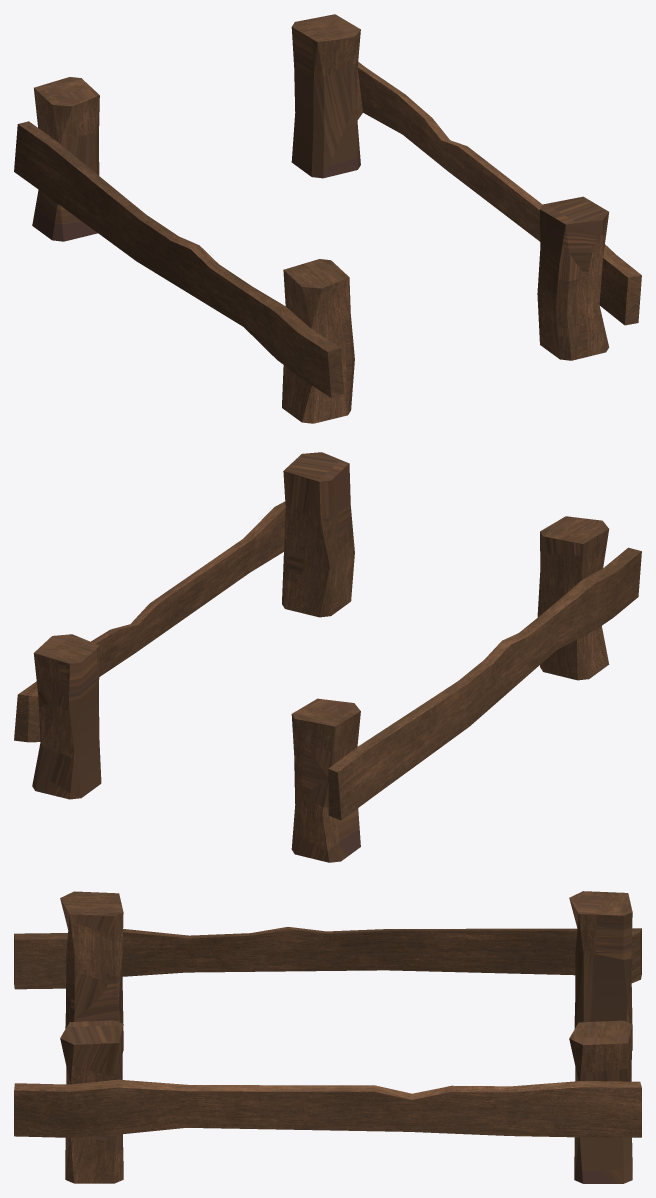
The model's file is PropBridge3.fbx.
3 views of the same model, one above another, from view 1: azimuth 30°, elevation 25°; view 2: azimuth 150°, elevation 25°; view 3: azimuth 270°, elevation 25° (orthographic). The views are drawn at different scales.
Visible parts, largest first — view 1: PropBridge3; view 2: PropBridge3; view 3: PropBridge3.
Part boxes in pixels (x1,y1,x2,y2): PropBridge3: (14,14,641,423); PropBridge3: (14,452,641,862); PropBridge3: (14,891,641,1183).
Bounding box in the file's own units: 3.16 × 1.23 × 5.05.
1 material, 1 textured.
